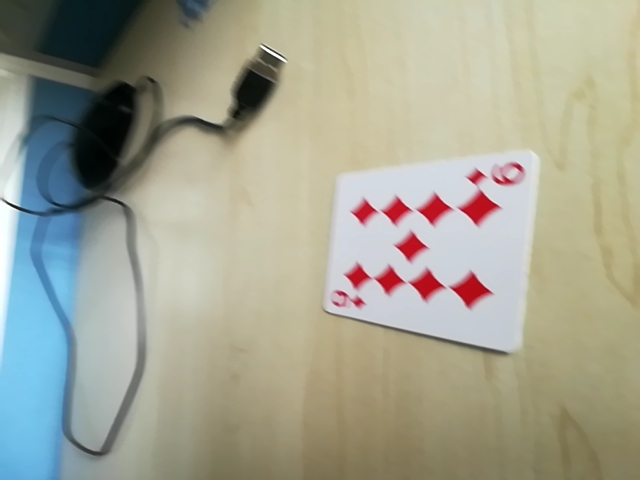fk 9: (466, 157, 529, 192), (326, 285, 371, 314)
